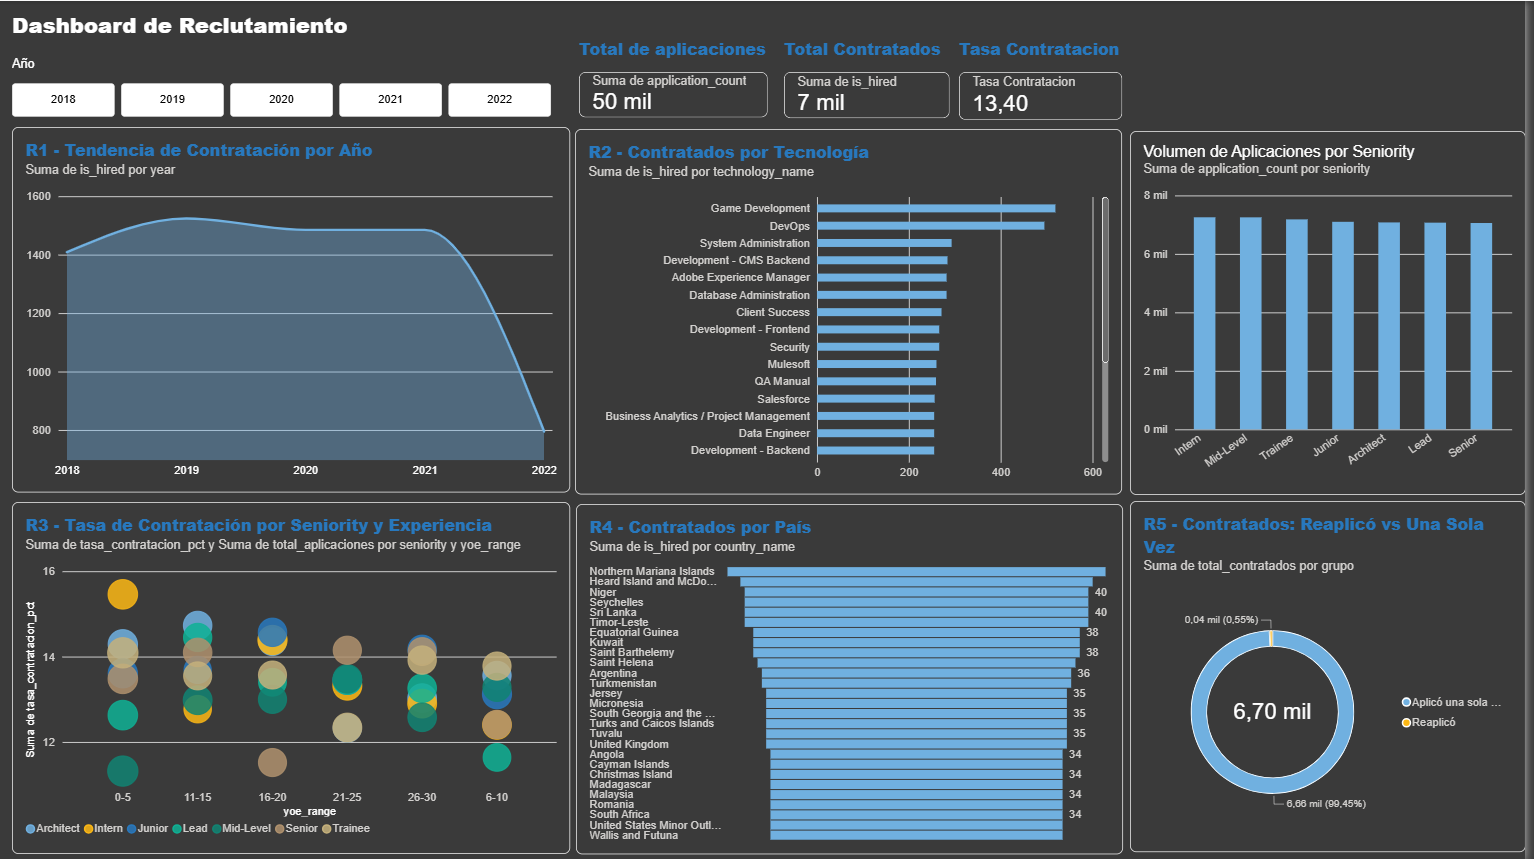

What the dashboard file says about the page in this screenshot:
{"tool":"powerbi","page":{"name":"Página 1","canvas":[1920,1080],"ordinal":0},"visuals":[{"type":"lineChart","title":"   R1 - Tendencia de Contratación por Año","fields":{"Category":["recruitment_dw dimdate.year"],"Y":["Sum(recruitment_dw factapplications.is_hired)"]},"box":[19.4,157.8,701.2,459.3],"z":0},{"type":"clusteredBarChart","title":"   R2 - Contratados por Tecnología","fields":{"Category":["recruitment_dw dimtechnology.technology_name"],"Y":["Sum(recruitment_dw factapplications.is_hired)"]},"box":[725.8,160.4,687,459.3],"z":1000},{"type":"funnel","title":"   R4 - Contratados por País","fields":{"Category":["recruitment_dw dimcountry.country_name"],"Y":["Sum(recruitment_dw factapplications.is_hired)"]},"box":[727.1,631.4,687,439.9],"z":2000},{"type":"scatterChart","title":"R3 - Tasa de Contratación por Seniority y Experiencia","fields":{"Series":["Consulta1.seniority"],"Size":["Sum(Consulta1.total_aplicaciones)"],"X":["Consulta1.yoe_range"],"Y":["Sum(Consulta1.tasa_contratacion_pct)"]},"box":[19.4,629.8,701.2,442.5],"z":3000},{"type":"donutChart","title":"R5 - Contratados: Reaplicó vs Una Sola Vez","fields":{"Category":["Consulta2.grupo"],"Y":["Sum(Consulta2.total_contratados)"]},"box":[1423.2,628.5,496.8,441.2],"z":4000},{"type":"cardVisual","title":"Total de aplicaciones","fields":{"Data":["Sum(recruitment_dw factapplications.application_count)"]},"box":[730.9,45.2,237.3,101.7],"z":5000},{"type":"cardVisual","title":"Tasa Contratacion","fields":{"Data":["recruitment_dw factapplications.Tasa Contratacion"]},"box":[1208.1,45.3,205.7,104.8],"z":6000},{"type":"cardVisual","title":"Total Contratados","fields":{"Data":["Sum(recruitment_dw factapplications.is_hired)"]},"box":[988.2,45.3,208.3,102.2],"z":7000},{"type":"textbox","box":[19.4,11.6,628.8,58.2],"z":8000},{"type":"advancedSlicerVisual","title":"Año","fields":{"Values":["recruitment_dw dimdate.year"]},"box":[19.4,69.9,680.5,75],"z":9000},{"type":"columnChart","title":"Volumen de Aplicaciones por Seniority","fields":{"Category":["recruitment_dw dimcandidateprofile.seniority"],"Y":["Sum(recruitment_dw factapplications.application_count)"]},"box":[1423.2,163,496.8,456.7],"z":9001}]}

Visuals, with their boxes in screenshot pixels (x1, y1, x2, y2), scaled from the page's 1920x1080 canvas onto the 1534x859 screenshot:
"   R1 - Tendencia de Contratación por Año" lineChart: 15/126/576/491
"   R2 - Contratados por Tecnología" clusteredBarChart: 580/128/1129/493
"   R4 - Contratados por País" funnel: 581/502/1130/852
"R3 - Tasa de Contratación por Seniority y Experiencia" scatterChart: 15/501/576/853
"R5 - Contratados: Reaplicó vs Una Sola Vez" donutChart: 1137/500/1533/851
"Total de aplicaciones" cardVisual: 584/36/774/117
"Tasa Contratacion" cardVisual: 965/36/1130/119
"Total Contratados" cardVisual: 790/36/956/117
textbox: 15/9/518/56
"Año" advancedSlicerVisual: 15/56/559/115
"Volumen de Aplicaciones por Seniority" columnChart: 1137/130/1533/493
